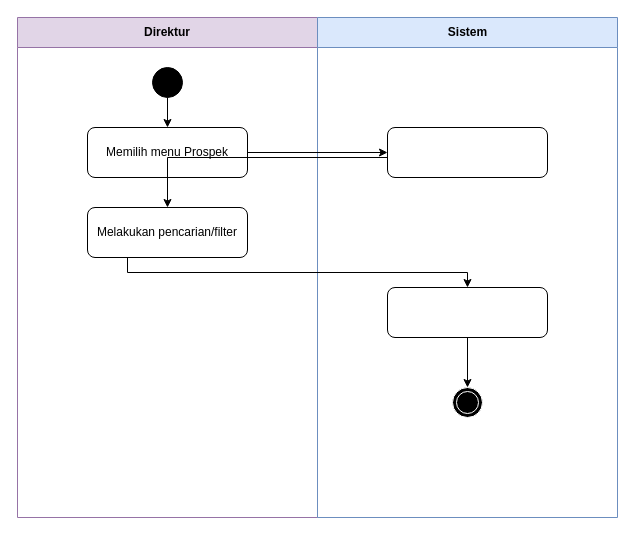
Some shapes in this 635 by 535 pixel diagram are drawn without their labels. The centre of each missing label's shape, as x and y in pixels:
"Menampilkan daftar prospek" goes at point (467, 152).
"Menampilkan hasil filter" goes at point (467, 312).
